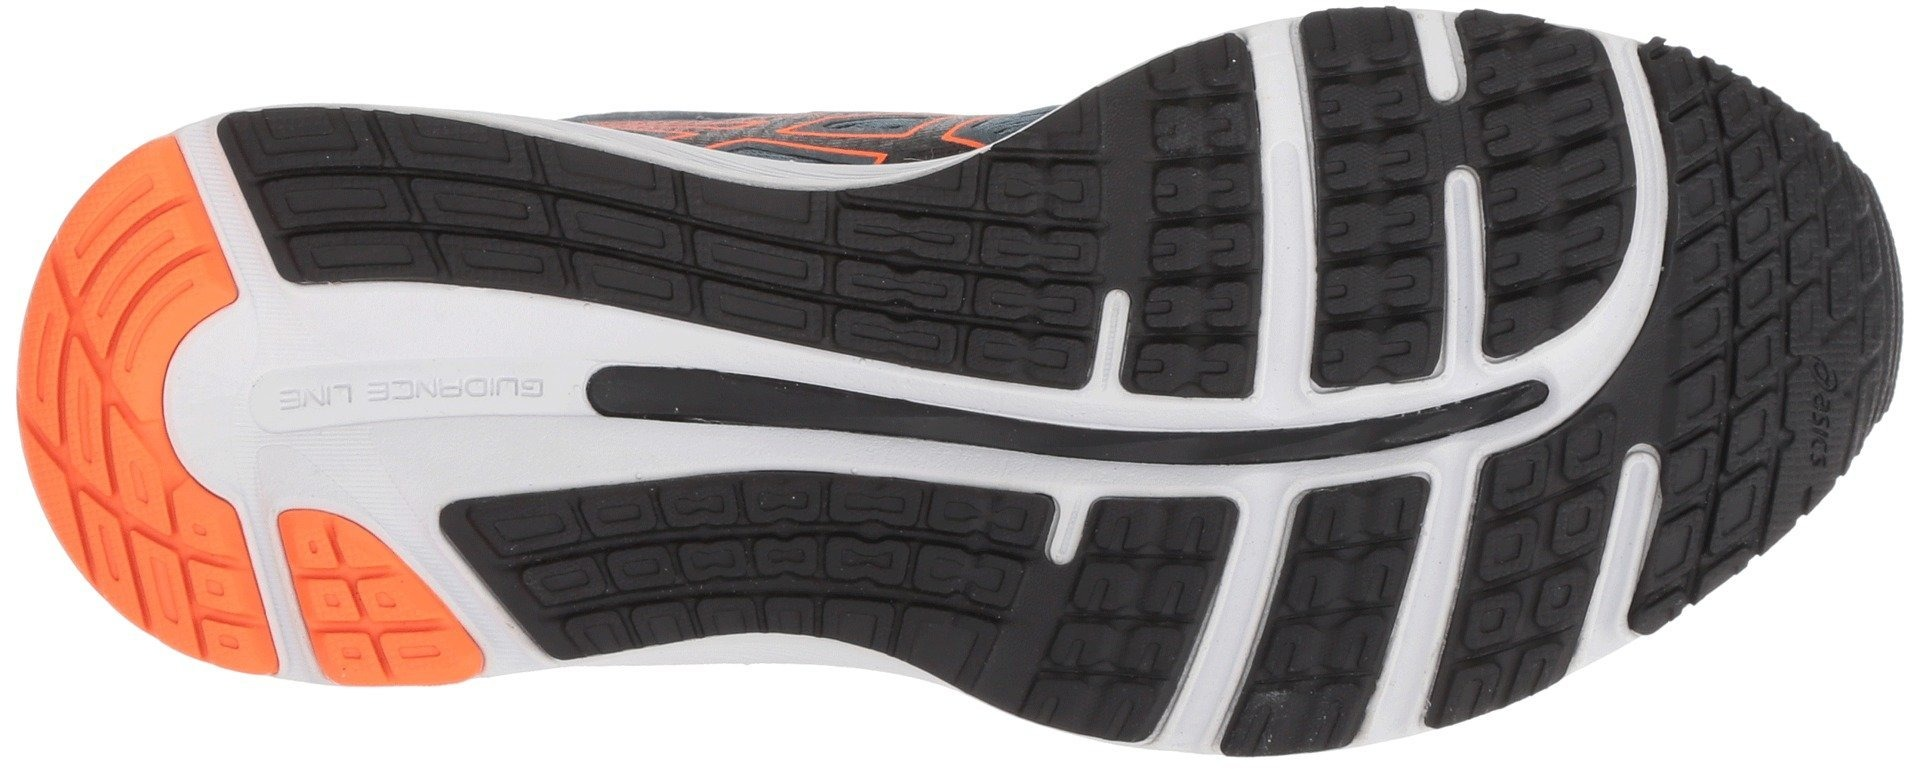bowtie: (827, 188, 1097, 412), (827, 439, 1035, 613)
quad: (1129, 91, 1443, 389), (1675, 182, 1864, 373), (1471, 60, 1632, 223), (1252, 555, 1411, 680)
ribbon: (554, 283, 822, 505), (1418, 282, 1635, 513), (1169, 341, 1371, 528)
text: (363, 350, 461, 434), (265, 360, 358, 446), (1771, 381, 1857, 467), (460, 352, 551, 427)
triangle: (252, 490, 494, 678)
